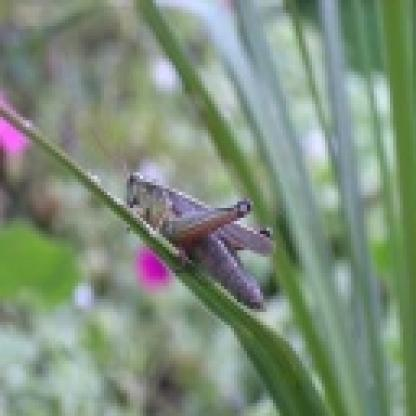grasshopper: (126, 159, 292, 311)
